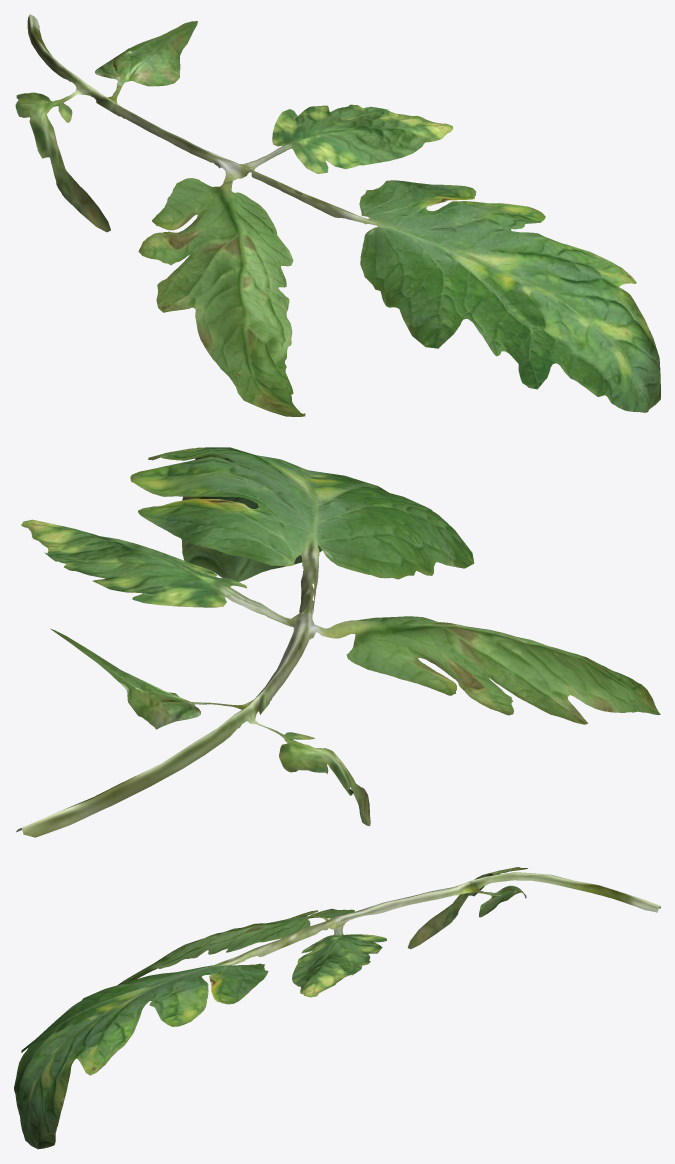
The model's file is Branch_04.fbx.
3 views of the same model, one above another, from view 1: azimuth 30°, elevation 25°; view 2: azimuth 150°, elevation 25°; view 3: azimuth 270°, elevation 25° (orthographic). The views are drawn at different scales.
Visible parts, largest first — view 1: Tomat3_Stvol.001; view 2: Tomat3_Stvol.001; view 3: Tomat3_Stvol.001.
Boxes of the visible parts, x1=… form: Tomat3_Stvol.001: x1=15, y1=14, x2=660, y2=416; Tomat3_Stvol.001: x1=16, y1=447, x2=660, y2=837; Tomat3_Stvol.001: x1=14, y1=867, x2=660, y2=1149.
Bounding box in the file's own units: 1777 × 979 × 3160.
